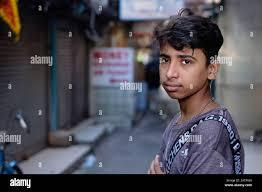Human: (142, 10, 237, 184)
